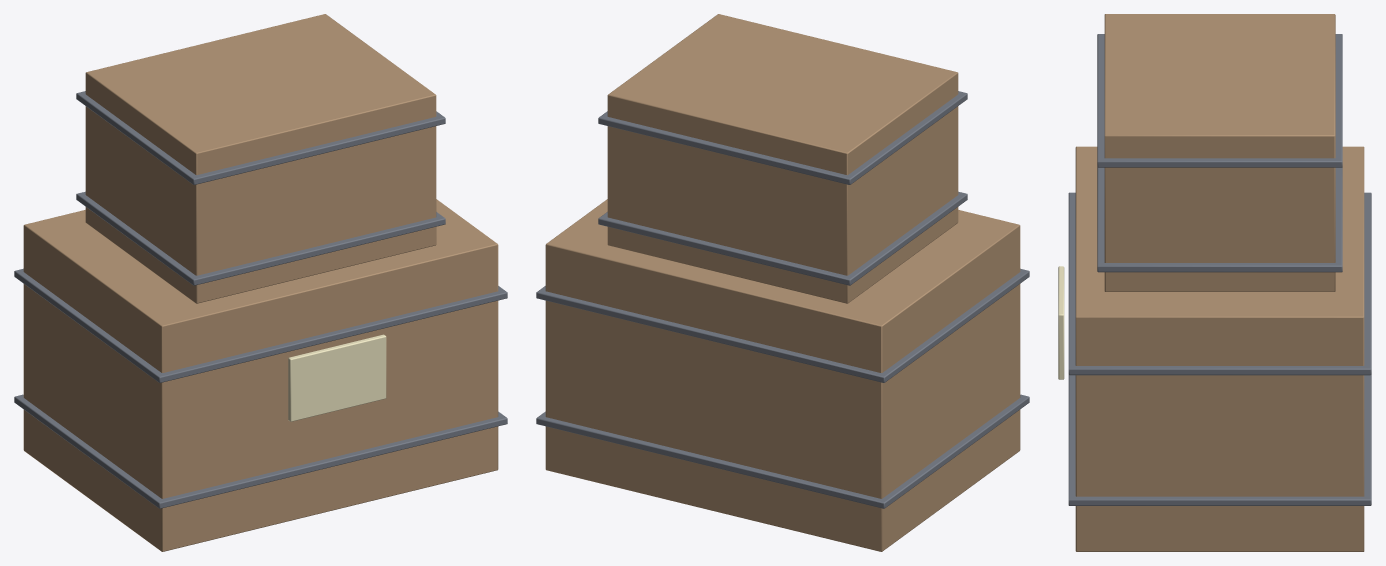
File: SM_ST_DEPOT.fbx
3 views of the same model, side by side, from view 1: azimuth 30°, elevation 25°; view 2: azimuth 150°, elevation 25°; view 3: azimuth 270°, elevation 25° (orthographic). The views are drawn at different scales.
Parts seen in each view (by area): view 1: SM_ST_DEPOT; view 2: SM_ST_DEPOT; view 3: SM_ST_DEPOT.
Part boxes in pixels (bbox=[...]): SM_ST_DEPOT: bbox=[14, 14, 507, 551]; SM_ST_DEPOT: bbox=[536, 14, 1029, 551]; SM_ST_DEPOT: bbox=[1058, 14, 1371, 551].
Size of what is drawn, in the model's own units: 1.45 by 1.5 by 1.09.
